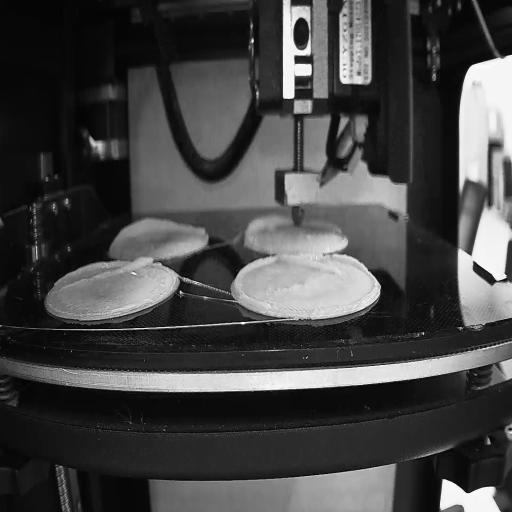over_extrusion: (60, 255, 154, 293), (111, 216, 206, 244), (234, 256, 280, 309), (286, 254, 368, 277), (244, 214, 287, 248)
